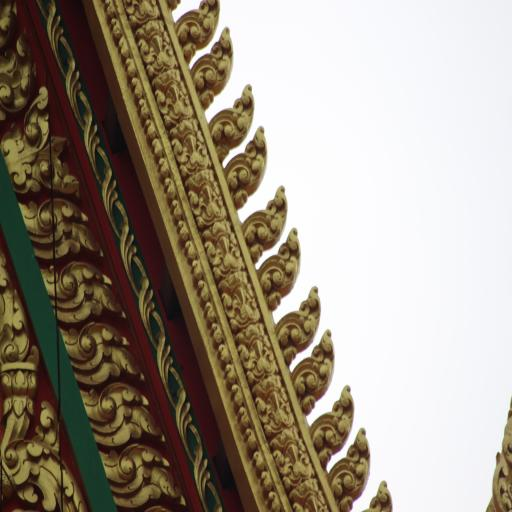la: (0, 94, 78, 190), (18, 186, 106, 266), (39, 261, 129, 332), (82, 376, 162, 444), (96, 444, 185, 505), (48, 325, 142, 381), (272, 423, 313, 481), (140, 14, 172, 78), (258, 373, 292, 433), (209, 218, 242, 278), (175, 120, 208, 174), (244, 321, 274, 380), (230, 270, 258, 328), (159, 72, 189, 126), (194, 174, 224, 224), (297, 483, 333, 512)
lua: (261, 224, 313, 305), (331, 422, 378, 510), (278, 285, 326, 356), (309, 383, 358, 451), (214, 81, 259, 154), (294, 325, 339, 398), (234, 127, 276, 201), (248, 186, 294, 253), (199, 24, 235, 108), (177, 0, 219, 53)
